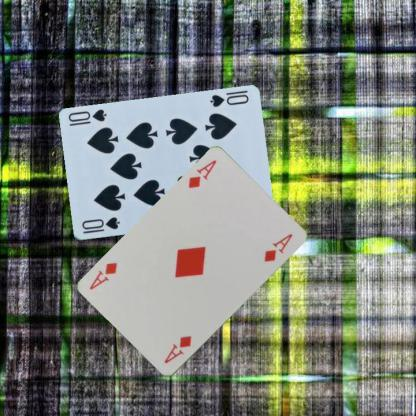10s: (79, 214, 121, 231), (207, 92, 250, 108)
Ad: (161, 333, 193, 366), (186, 158, 218, 190)
